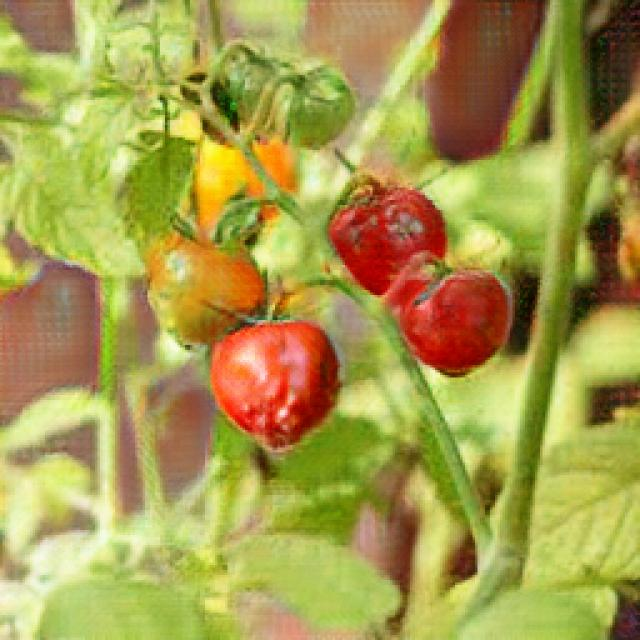overripe tomato: (213, 312, 338, 455), (395, 268, 521, 380), (332, 182, 435, 300)
